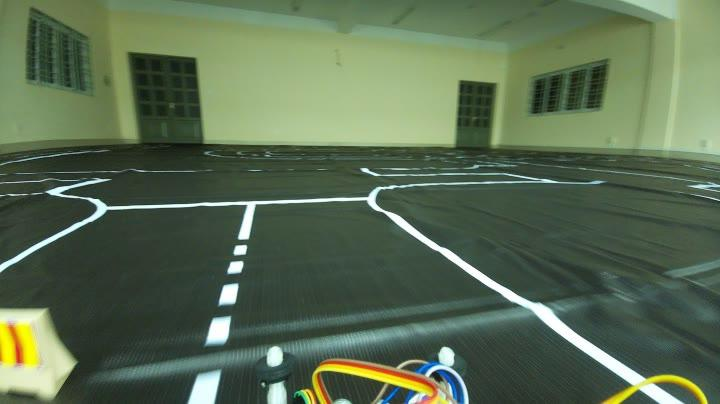roadblock: (3, 305, 86, 400)
